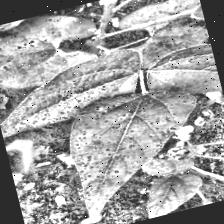ALS: (55, 79, 214, 224), (0, 44, 153, 140), (0, 5, 106, 92), (143, 44, 224, 123)
